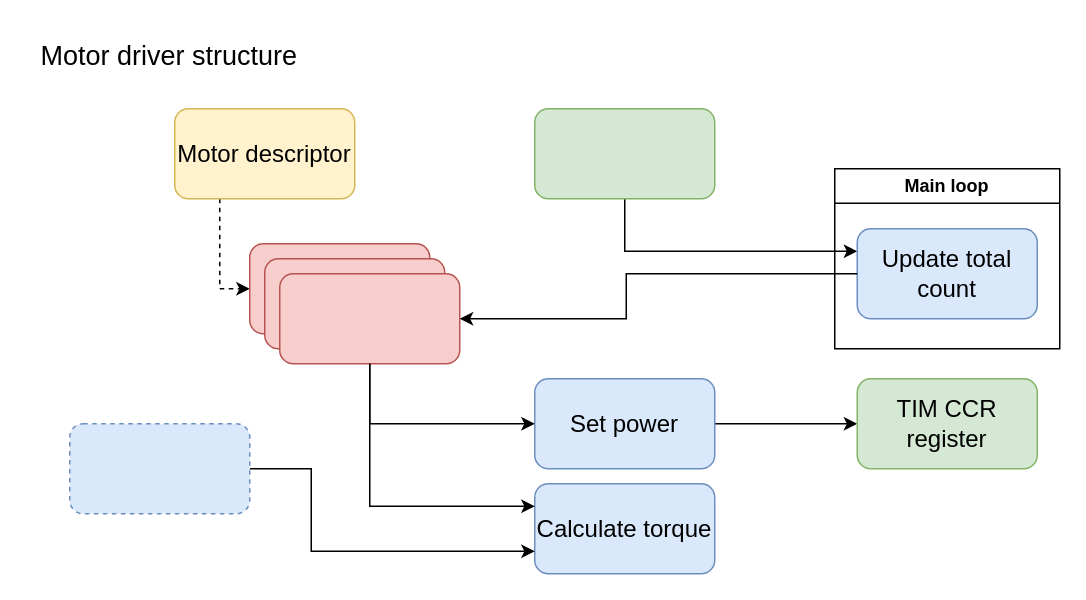
The diagram is 1086 pixels wide and 600 high, and some of its shapes have lost their labels. Each missing label, with the centre of its shape:
Get current [ADC]: (x=159, y=468)
Motor descriptors: (x=369, y=318)
TIM CNT register: (x=624, y=153)
